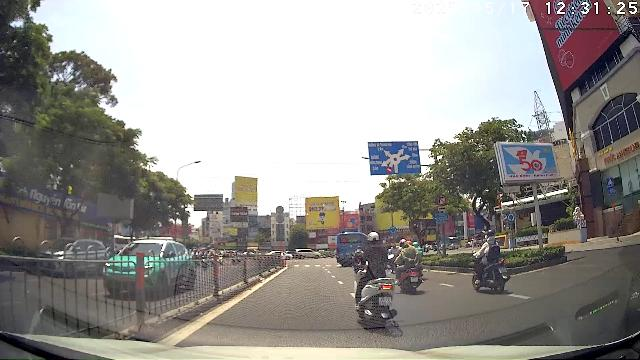303-noi-giao-nhau-chay-theo-vong-xuyen: (389, 226, 398, 234)
